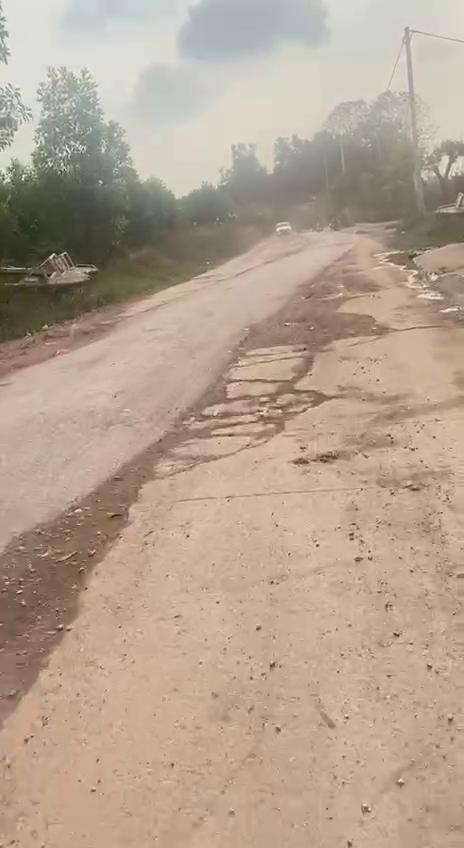pothole: (0, 520, 123, 685), (190, 381, 326, 447)
